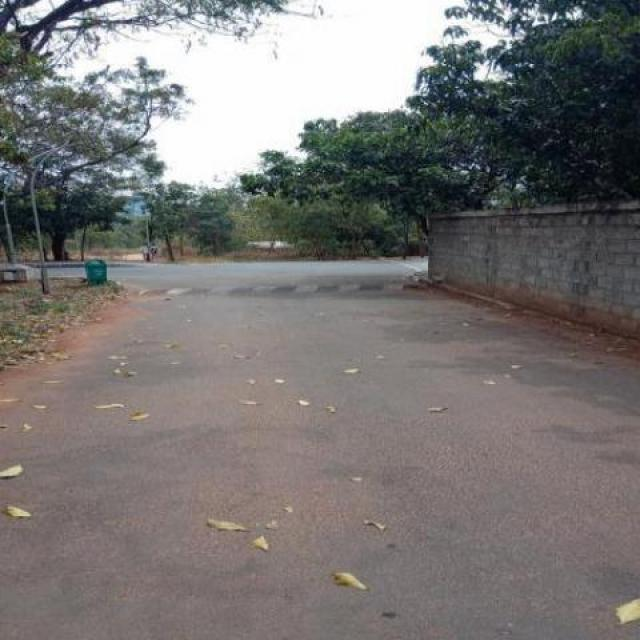Speed Bump: (132, 284, 422, 296)
